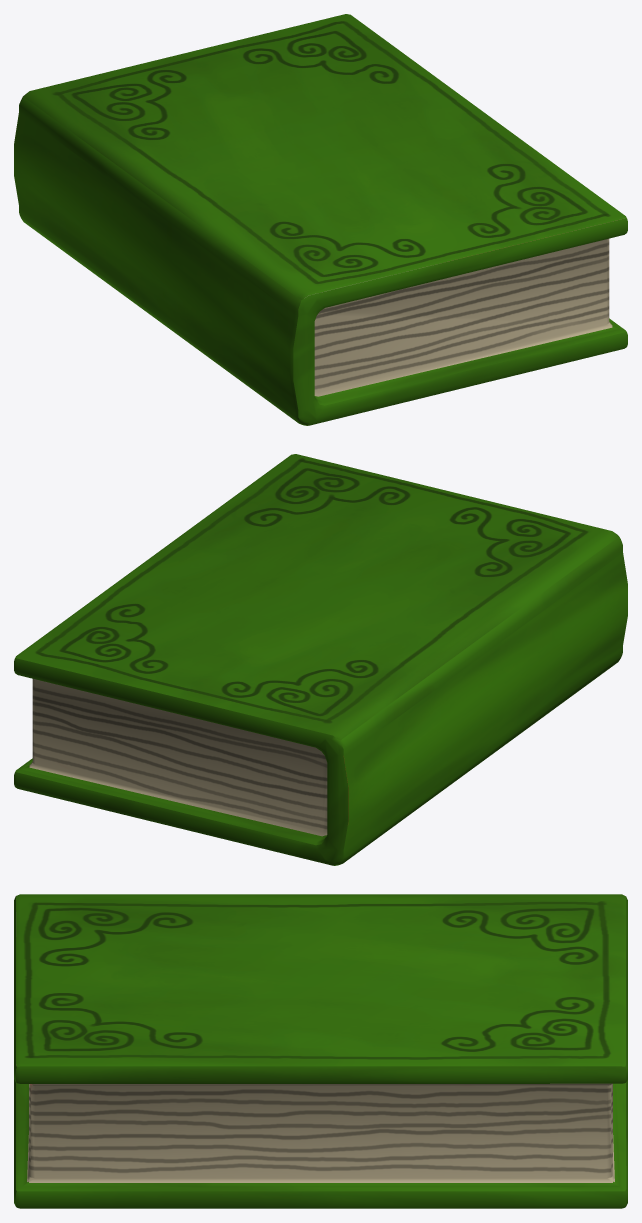
Rendered from green_book.fbx.
3 renders of one model, top to bottom at view 1: azimuth 30°, elevation 25°; view 2: azimuth 150°, elevation 25°; view 3: azimuth 270°, elevation 25°, orthographic. The views are drawn at different scales.
Parts seen in each view (by area): view 1: Cube; view 2: Cube; view 3: Cube.
Boxes of the visible parts, <box> form: Cube: <box>14,14,627,425</box>; Cube: <box>14,454,627,865</box>; Cube: <box>14,894,627,1208</box>.
Bounding box in the file's own units: 2083 × 786 × 3003.
1 material, 1 textured.
